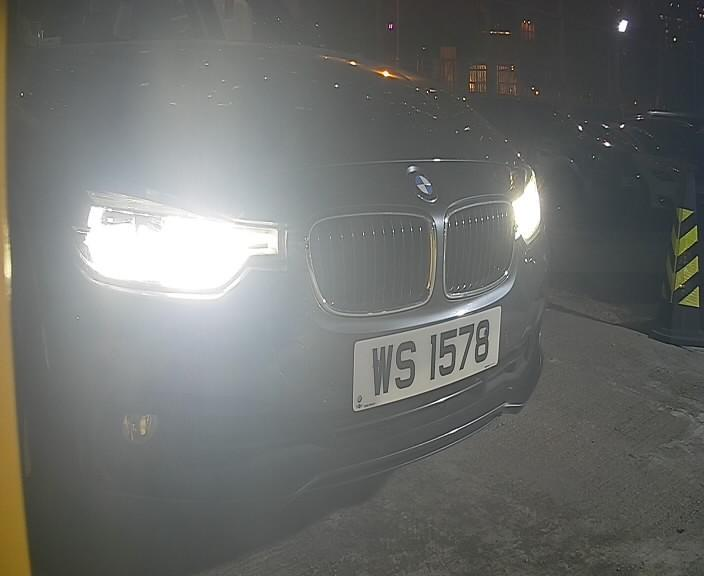privatecar: (13, 6, 573, 533)
